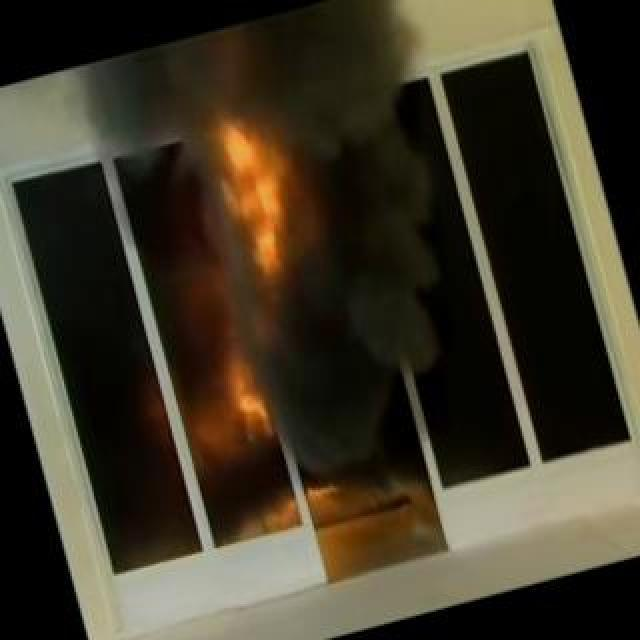fire: (204, 107, 308, 275)
smoke: (102, 0, 498, 478)
